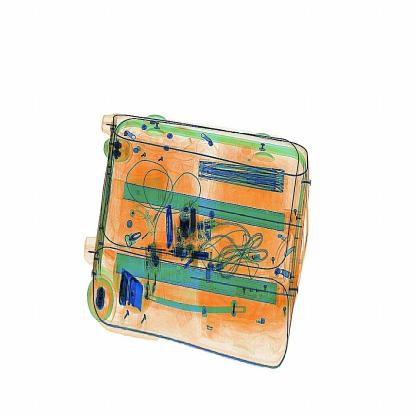knife: (159, 198, 181, 256)
